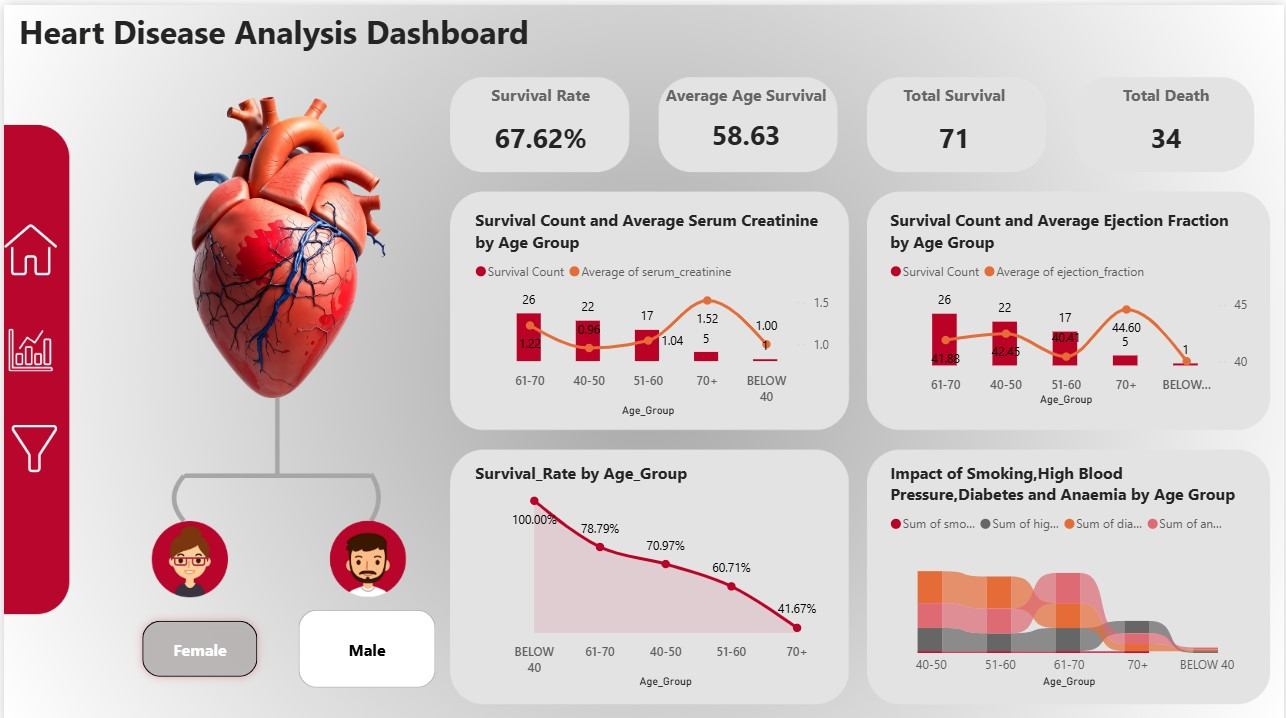

The page's visual inventory and layout, read from the dashboard file:
{"tool":"powerbi","page":{"name":"Page 1","canvas":[1280,720],"ordinal":0},"visuals":[{"type":"textbox","box":[10,0,540.4,55.5],"z":0},{"type":"card","title":"Survival Rate","fields":{"Values":["heart_Disease_clinical_records_.Survival_Rate"]},"box":[450,78.9,173.3,87.8],"z":1000},{"type":"card","title":"Average Age Survival","fields":{"Values":["heart_Disease_clinical_records_.Average_Age_Survival"]},"box":[655.6,78.9,174.4,82.2],"z":2000},{"type":"card","title":"Total Survival","fields":{"Values":["heart_Disease_clinical_records_.Total_Survival"]},"box":[863.3,78.9,173.3,87.8],"z":3000},{"type":"card","title":"Total Death","fields":{"Values":["heart_Disease_clinical_records_.Total_Death"]},"box":[1075.6,78.9,174.4,87.8],"z":4000},{"type":"lineClusteredColumnComboChart","title":"Survival Count and Average Serum Creatinine by Age Group","fields":{"Category":["heart_Disease_clinical_records_.Age_Group"],"Y":["CountNonNull(heart_Disease_clinical_records_.DEATH_EVENT)"],"Y2":["Avg(heart_Disease_clinical_records_.serum_creatinine)"]},"box":[466.7,203.3,363.3,213.3],"z":4001},{"type":"lineClusteredColumnComboChart","title":"Survival Count and Average Ejection Fraction by Age Group","fields":{"Category":["heart_Disease_clinical_records_.Age_Group"],"Y":["CountNonNull(heart_Disease_clinical_records_.DEATH_EVENT)"],"Y2":["Avg(heart_Disease_clinical_records_.ejection_fraction)"]},"box":[881.7,203.3,368.3,201.7],"z":4002},{"type":"lineChart","fields":{"Category":["heart_Disease_clinical_records_.Age_Group"],"Y":["heart_Disease_clinical_records_.Survival_Rate"]},"box":[466.7,456.7,363.3,231.7],"z":4003},{"type":"ribbonChart","title":"Impact of Smoking,High Blood Pressure,Diabetes and Anaemia by Age Group","fields":{"Category":["heart_Disease_clinical_records_.Age_Group"],"Y":["Sum(heart_Disease_clinical_records_.smoking)","Sum(heart_Disease_clinical_records_.high_blood_pressure)","Sum(heart_Disease_clinical_records_.diabetes)","Sum(heart_Disease_clinical_records_.anaemia)"]},"box":[881.7,456.7,368.3,231.7],"z":4004},{"type":"advancedSlicerVisual","fields":{"Values":["heart_Disease_clinical_records_.Gender"]},"box":[122.2,600,315.6,88.9],"z":4005}]}

Visuals, with their boxes in screenshot pixels (x1, y1, x2, y2), scaled from the page's 1280x720 canvas onto the 1286x718 screenshot:
textbox: (10, 0, 553, 55)
"Survival Rate" card: (452, 79, 626, 166)
"Average Age Survival" card: (659, 79, 834, 161)
"Total Survival" card: (867, 79, 1041, 166)
"Total Death" card: (1081, 79, 1256, 166)
"Survival Count and Average Serum Creatinine by Age Group" lineClusteredColumnComboChart: (469, 203, 834, 415)
"Survival Count and Average Ejection Fraction by Age Group" lineClusteredColumnComboChart: (886, 203, 1256, 404)
lineChart - heart_Disease_clinical_records_.Age_Group x heart_Disease_clinical_records_.Survival_Rate: (469, 455, 834, 686)
"Impact of Smoking,High Blood Pressure,Diabetes and Anaemia by Age Group" ribbonChart: (886, 455, 1256, 686)
advancedSlicerVisual - heart_Disease_clinical_records_.Gender: (123, 598, 440, 687)
